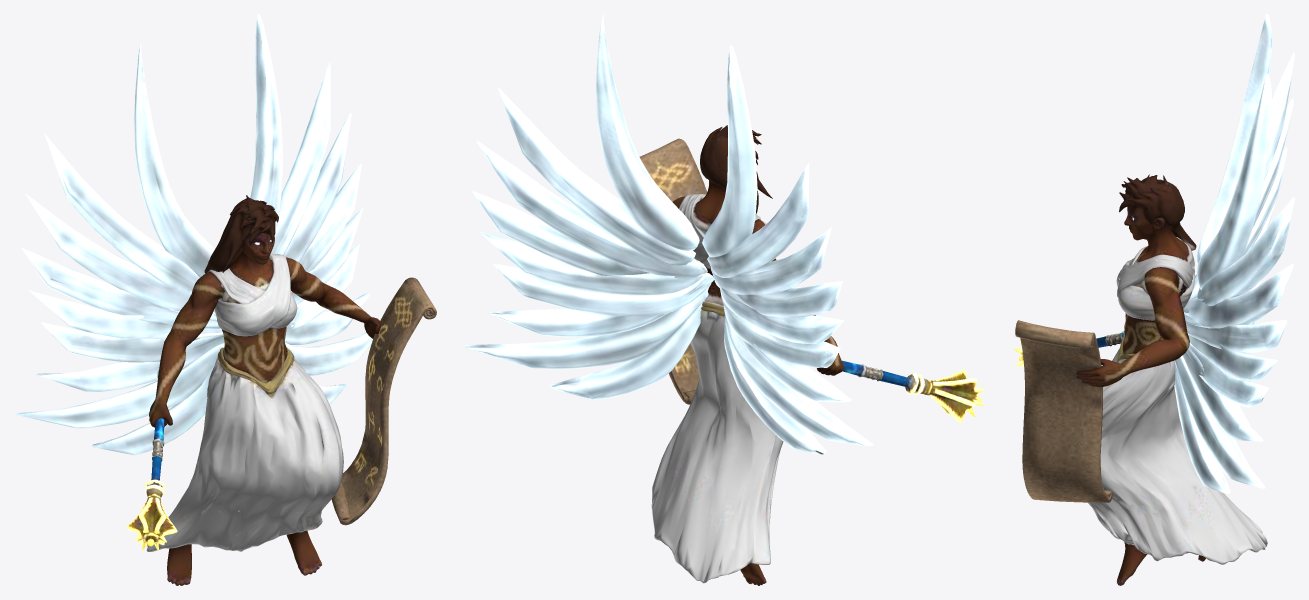
Rendered from MZ4250 - Deva Female_2_2025.glb.
The picture shows the model from 3 angles, left to right: view 1: azimuth 30°, elevation 25°; view 2: azimuth 150°, elevation 25°; view 3: azimuth 270°, elevation 25°; orthographic projection. The views are drawn at different scales.
Parts seen in each view (by area): view 1: Deva Female.001; view 2: Deva Female.001; view 3: Deva Female.001.
Boxes of the visible parts, box(x1,y1,x2,y2) form: Deva Female.001: box(14, 14, 436, 585); Deva Female.001: box(465, 14, 985, 585); Deva Female.001: box(1014, 14, 1294, 585).
Size of the model in its own units: 96.05 by 128 by 60.07.
1 material, 1 textured.
